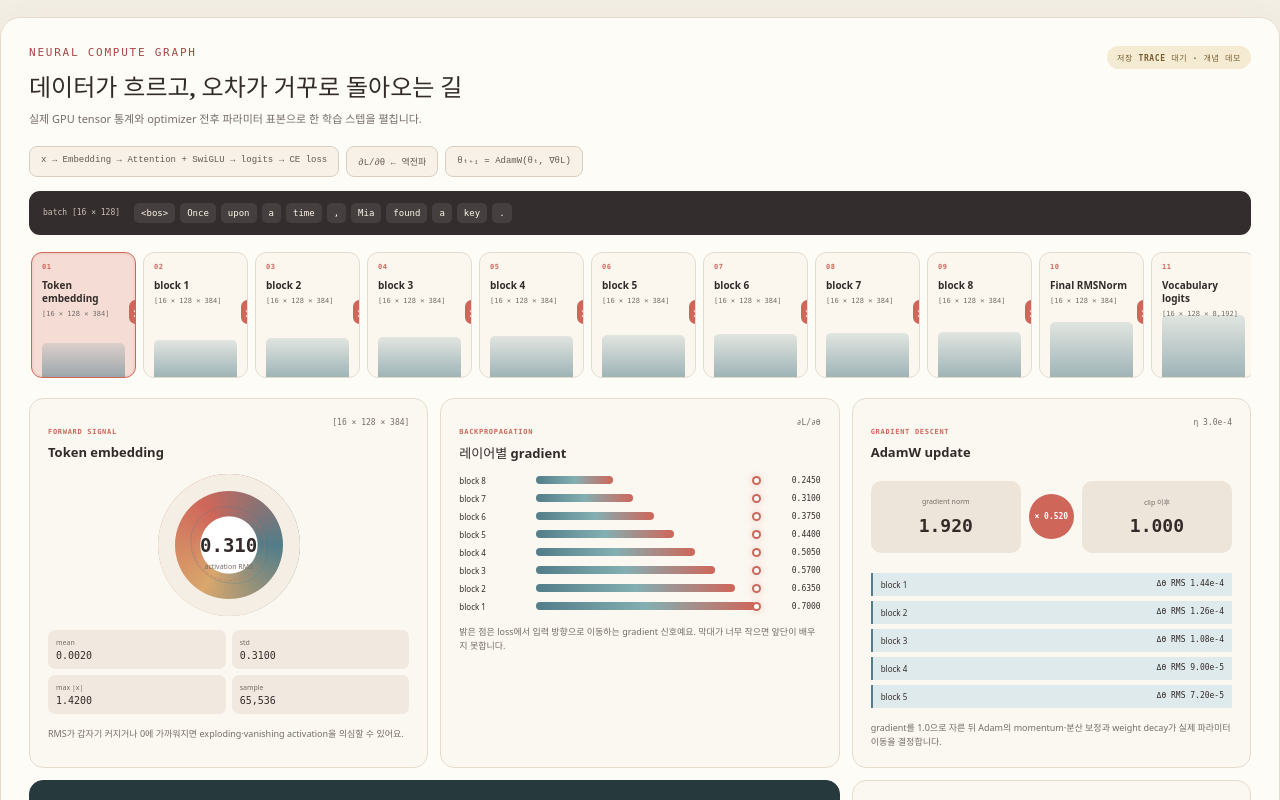
Test: NeuralFlowLab › switches the activation inspector and renders a 5x5 surface
The image size is (1280, 800).
Click the button "05 block 4 [16 × 128 × 384]". click: (532, 315)
box: [479,252,584,378]
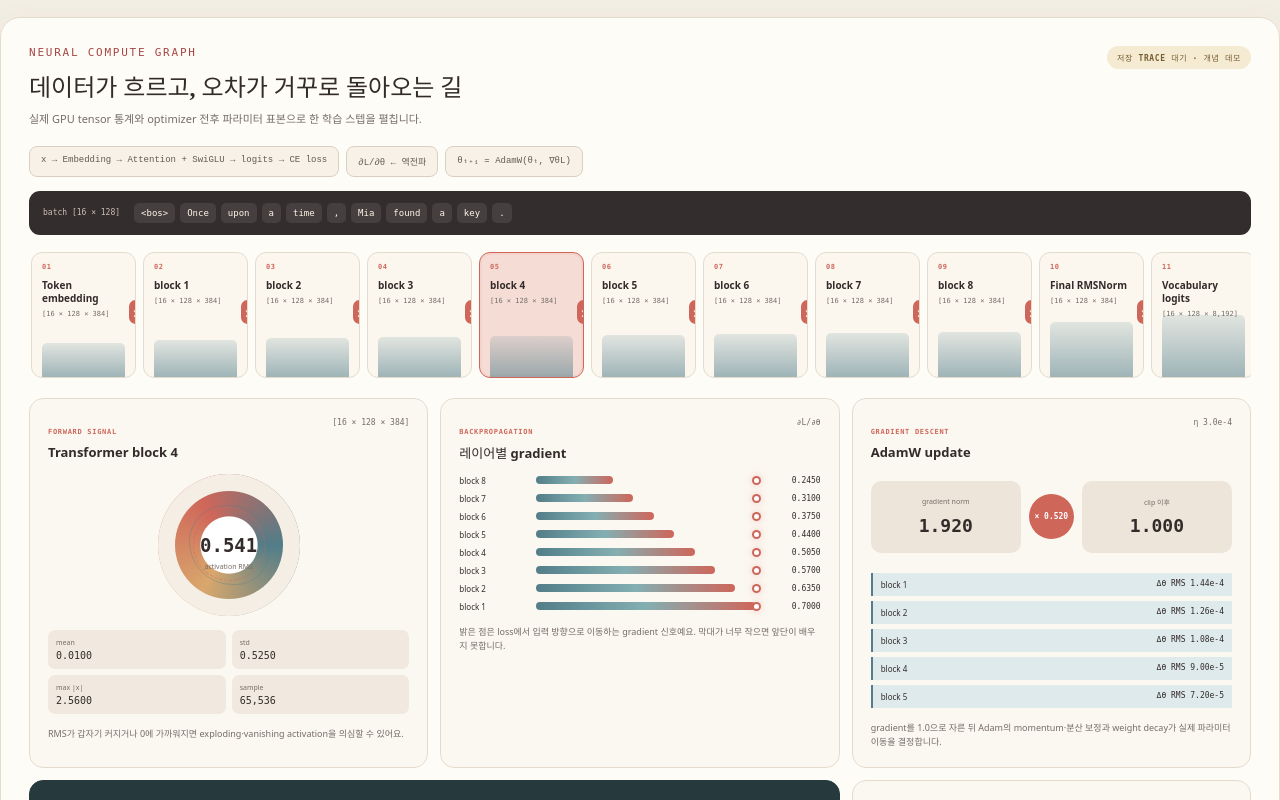
Check: the heading "Transformer block 4" is shown, box [48,443,178,461]
